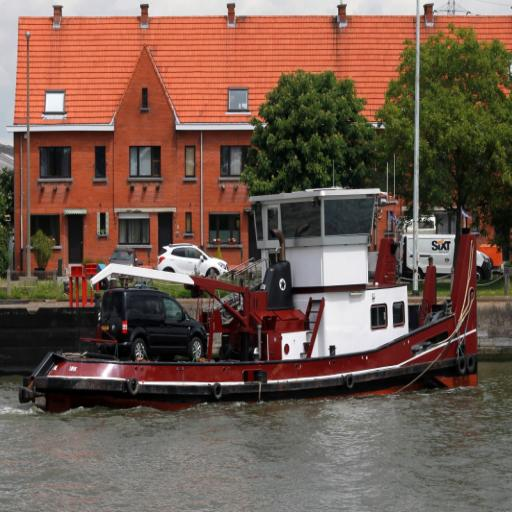tugboat: (15, 183, 484, 424)
